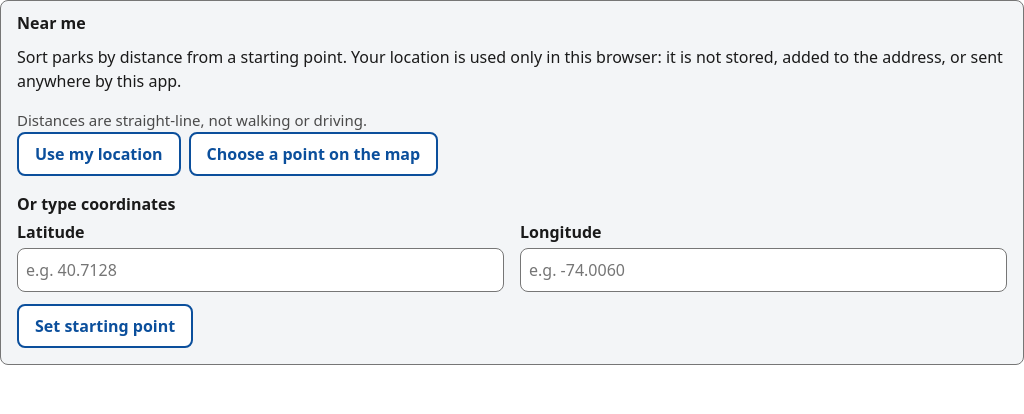
NearMePanel: typed coordinates › rejects text with a message and does not set a point
Type "north" into the field labelled "Latitude". click: (260, 270)
box: 17,248 -> 504,292
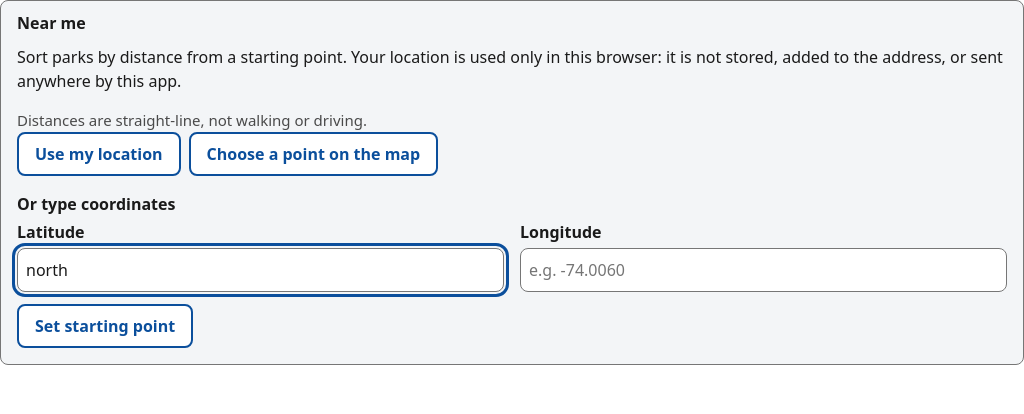
Type "-74" into the field labelled "Longitude". click: (764, 270)
box: 520,248 -> 1007,292
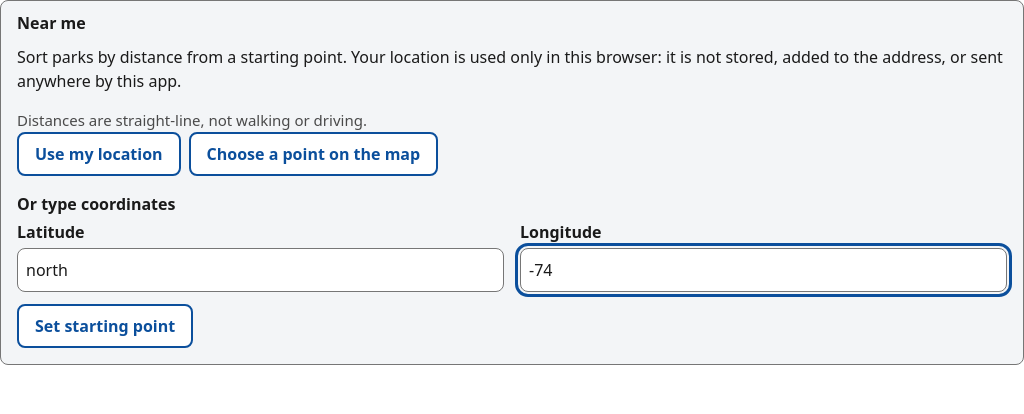
Click the button "Set starting point". click: (105, 326)
box: 17,304 -> 193,348
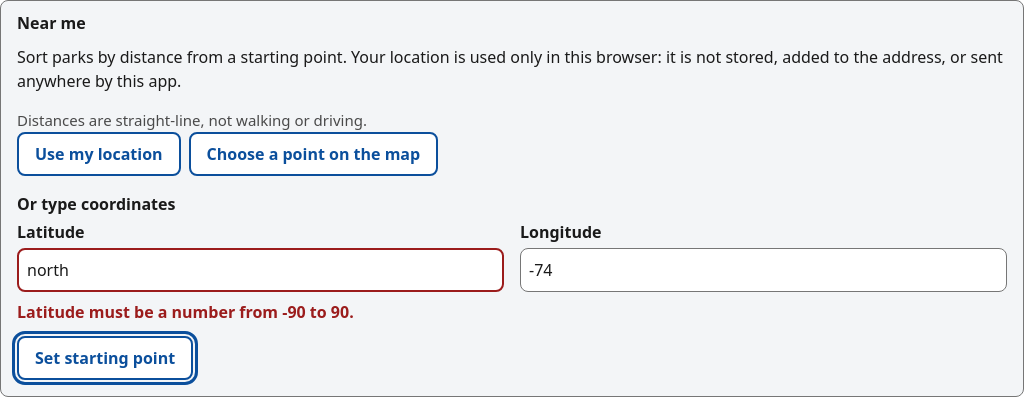
Expected: the message shows "Latitude must be a number", 17,300 -> 354,322
